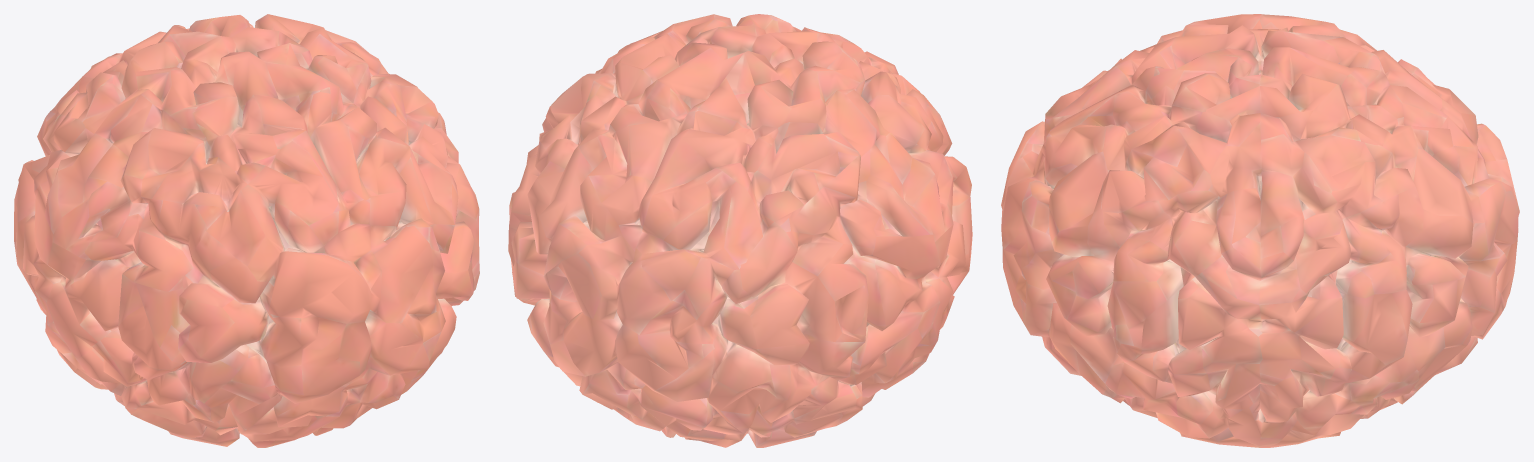
The model's file is coral_brain.glb.
3 renders of one model, left to right at view 1: azimuth 30°, elevation 25°; view 2: azimuth 150°, elevation 25°; view 3: azimuth 270°, elevation 25°, orthographic.
Size of the model in its own units: 1.7 by 1.55 by 1.9.
1 material, 1 textured.
